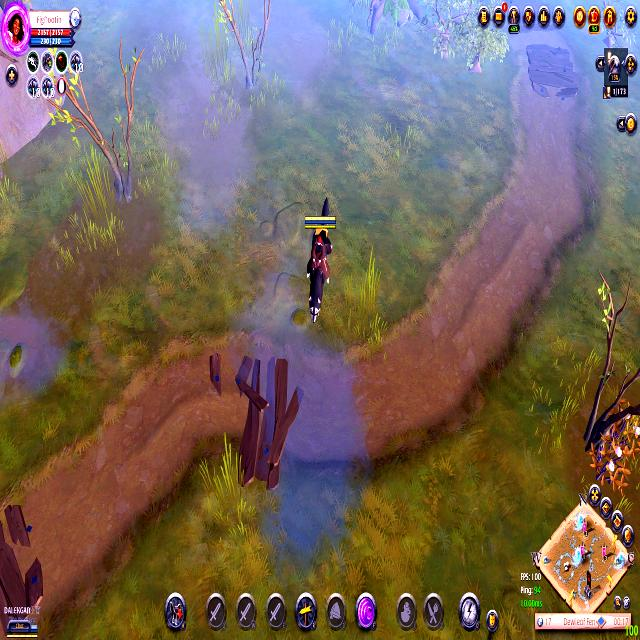hide: (581, 421, 635, 495), (602, 387, 640, 459)
red: (300, 189, 342, 322), (0, 594, 45, 640)
